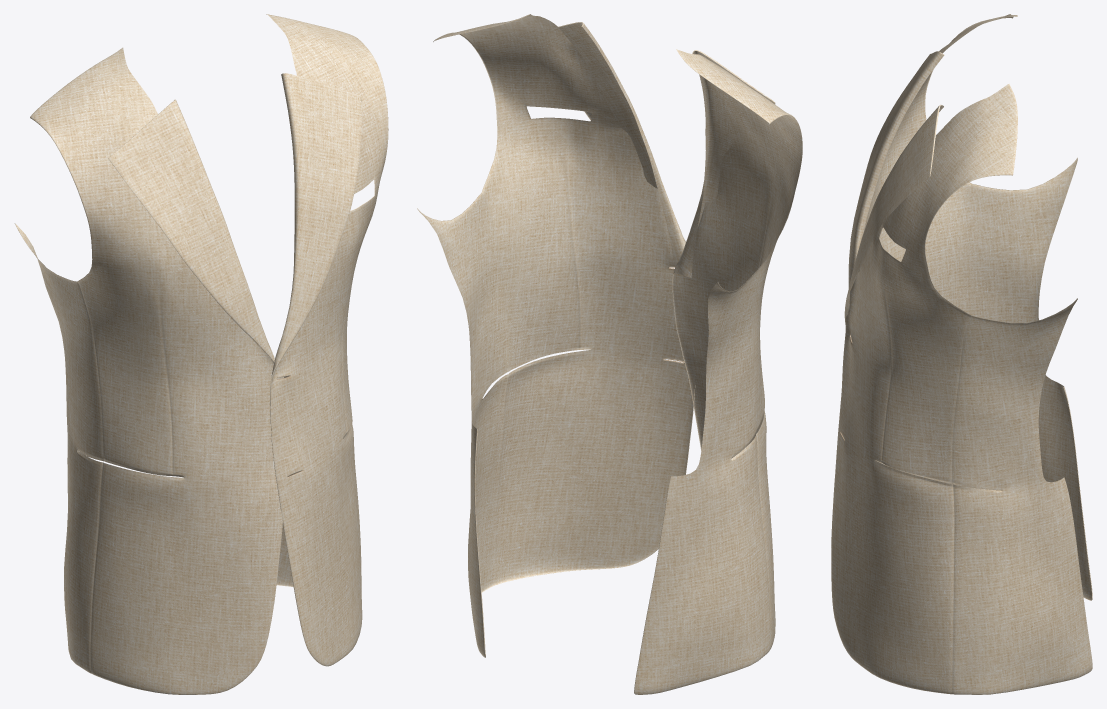
Rendered from notch_double_button_wide.glb.
The picture shows the model from 3 angles, left to right: view 1: azimuth 30°, elevation 25°; view 2: azimuth 150°, elevation 25°; view 3: azimuth 270°, elevation 25°; orthographic projection. The views are drawn at different scales.
Parts seen in each view (by area): view 1: notch_double_button_wide1; view 2: notch_double_button_wide1; view 3: notch_double_button_wide1.
Boxes of the visible parts, x1,y1,x2,y2 form: notch_double_button_wide1: (14,14,388,694); notch_double_button_wide1: (417,14,802,694); notch_double_button_wide1: (831,14,1092,694).
Bounding box in the file's own units: 0.0585 × 0.102 × 0.0411.
Materials: 2 (1 with a texture image).
